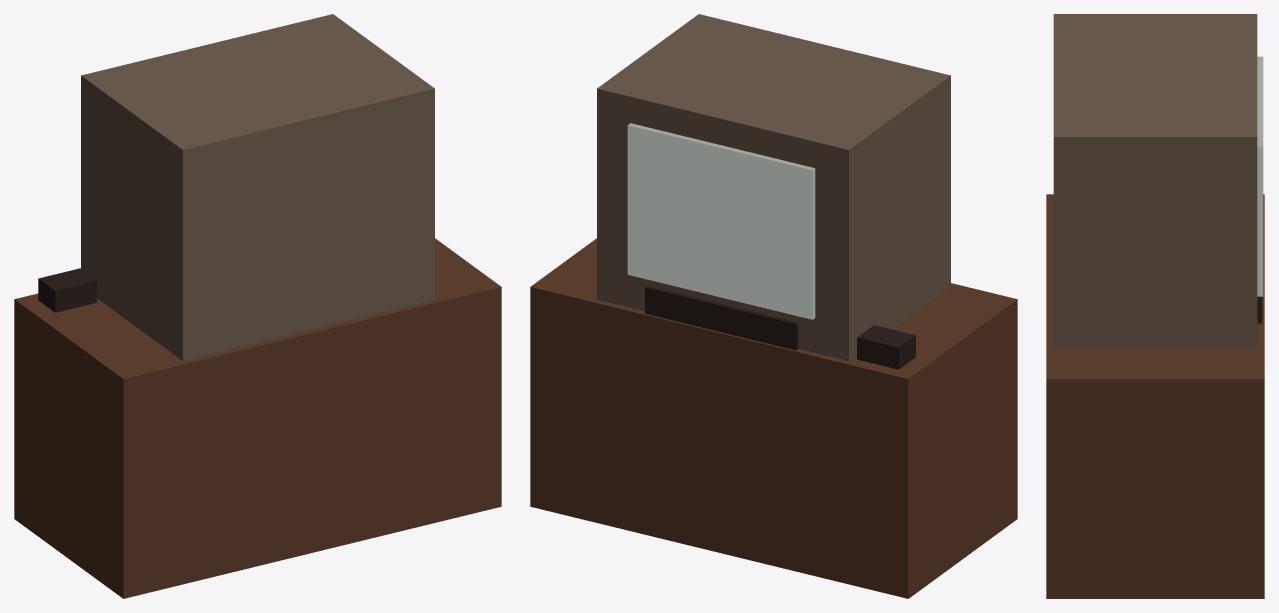
Rendered from console.glb.
The picture shows the model from 3 angles, left to right: view 1: azimuth 30°, elevation 25°; view 2: azimuth 150°, elevation 25°; view 3: azimuth 270°, elevation 25°; orthographic projection.
Parts seen in each view (by area): view 1: Box1, Box2, Box5; view 2: Box1, Box2, Box3, Box4, Box5; view 3: Box2, Box1, Box3.
Boxes of the visible parts, x1=… form: Box1: x1=14, y1=238, x2=501, y2=598; Box2: x1=81, y1=14, x2=434, y2=360; Box5: x1=38, y1=268, x2=97, y2=312; Box1: x1=530, y1=238, x2=1017, y2=598; Box2: x1=597, y1=14, x2=950, y2=360; Box3: x1=627, y1=123, x2=815, y2=319; Box4: x1=645, y1=285, x2=798, y2=350; Box5: x1=857, y1=325, x2=915, y2=369; Box2: x1=1053, y1=14, x2=1257, y2=348; Box1: x1=1046, y1=194, x2=1264, y2=598; Box3: x1=1257, y1=56, x2=1263, y2=296.
Bounding box in the file's own units: 0.9 × 0.98 × 0.45.
